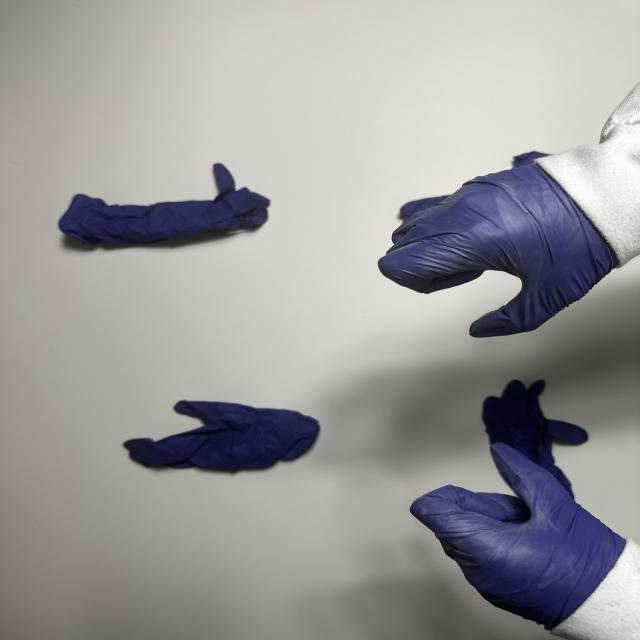gloves_contaminated: (379, 164, 617, 337), (410, 444, 625, 629)
